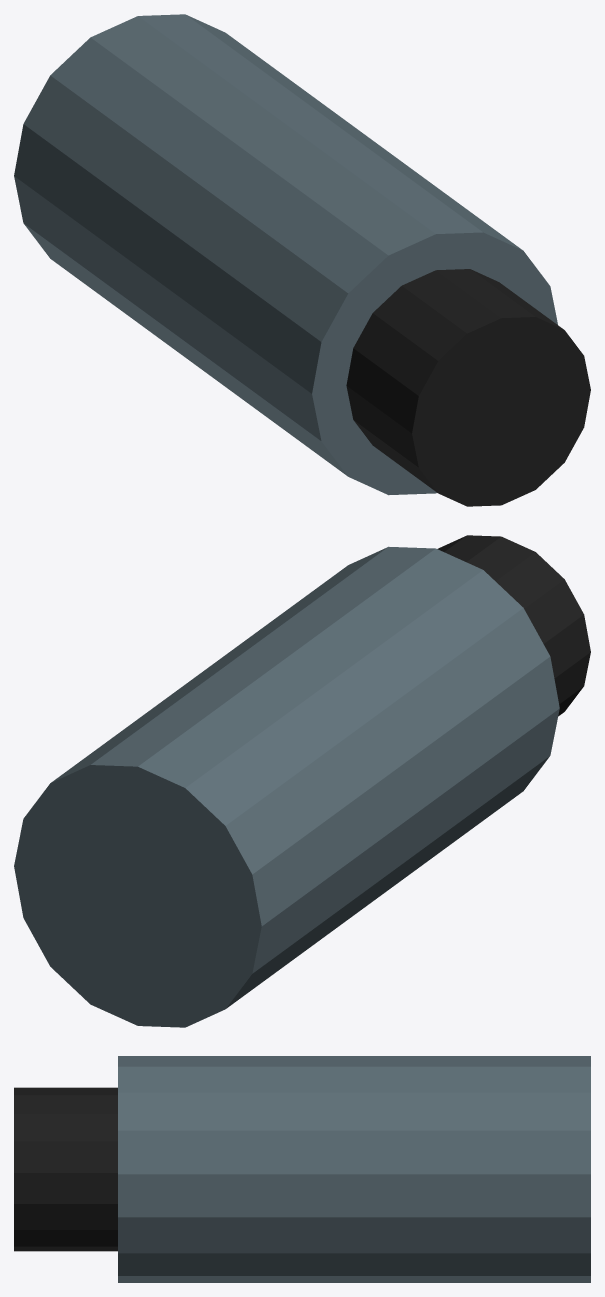
File: water_bottle_dirty.obj
3 views of the same model, one above another, from view 1: azimuth 30°, elevation 25°; view 2: azimuth 150°, elevation 25°; view 3: azimuth 270°, elevation 25° (orthographic). The views are drawn at different scales.
Bounding box in the file's own units: 0.36 × 0.36 × 0.915.
